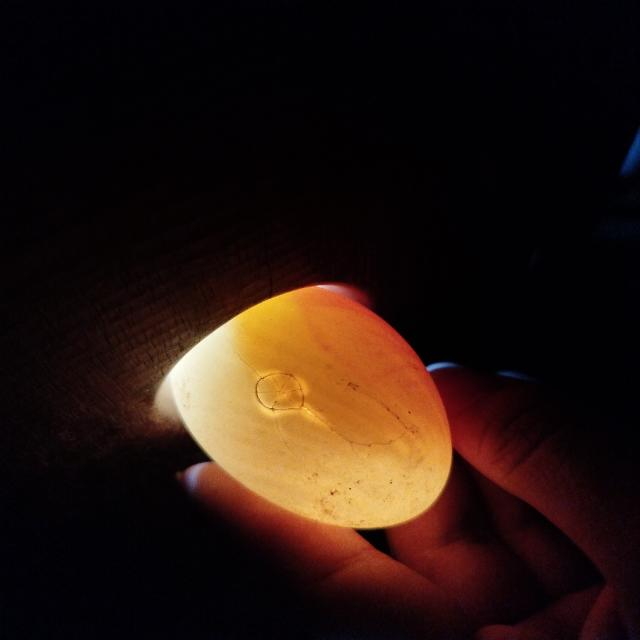Gema Quebrada: (291, 286, 451, 438)
Rachadura: (232, 349, 410, 464)
